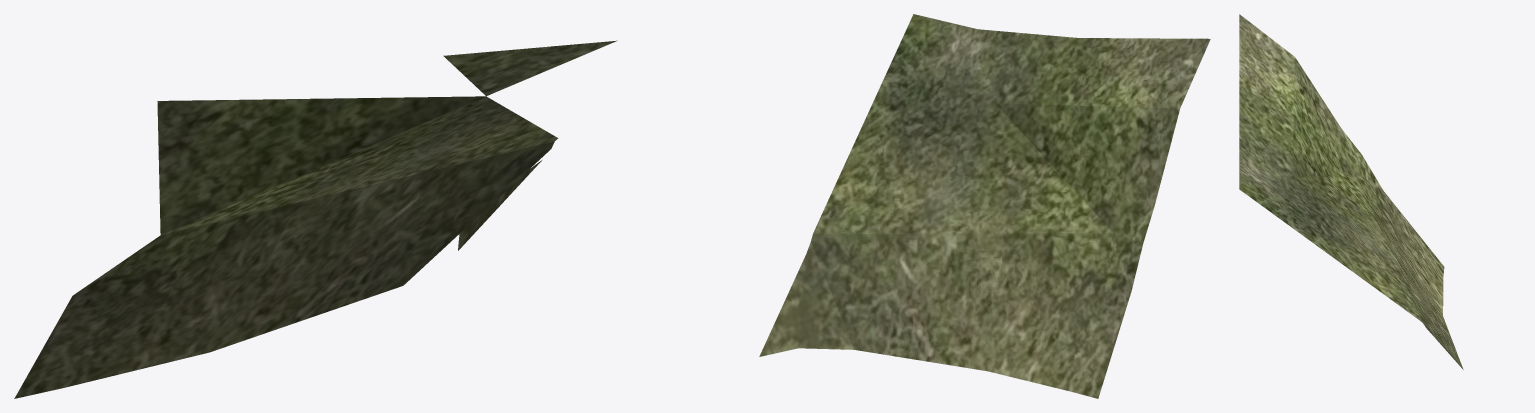
3 views of the same model, side by side, from view 1: azimuth 30°, elevation 25°; view 2: azimuth 150°, elevation 25°; view 3: azimuth 270°, elevation 25° (orthographic). The views are drawn at different scales.
Bounding box in the file's own units: 2.95 × 2.63 × 2.65.
3 materials, 3 textured.
